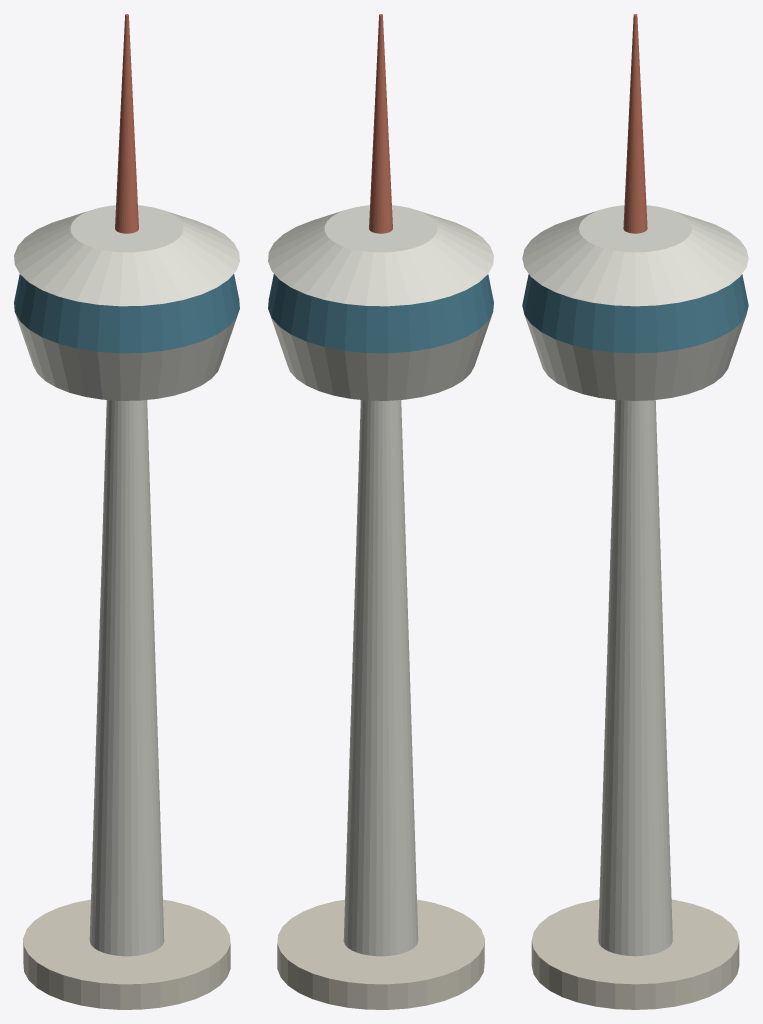
Rendered from namsan.glb.
3 views of the same model, side by side, from view 1: azimuth 30°, elevation 25°; view 2: azimuth 150°, elevation 25°; view 3: azimuth 270°, elevation 25° (orthographic).
Parts seen in each view (by area): view 1: tapered shaft, roof, base, panoramic windows, observation deck, antenna; view 2: tapered shaft, roof, base, panoramic windows, observation deck, antenna; view 3: tapered shaft, roof, base, panoramic windows, observation deck, antenna.
Part boxes in pixels (x1,y1,x2,y2): tapered shaft: (89, 400, 164, 956); roof: (14, 205, 239, 306); base: (23, 899, 230, 1009); panoramic windows: (14, 274, 239, 353); observation deck: (15, 313, 238, 400); antenna: (115, 14, 138, 233); tapered shaft: (343, 400, 418, 956); roof: (268, 205, 493, 306); base: (277, 899, 484, 1009); panoramic windows: (268, 274, 493, 353); observation deck: (269, 313, 492, 400); antenna: (369, 14, 392, 233); tapered shaft: (598, 400, 672, 956); roof: (522, 205, 748, 306); base: (531, 899, 739, 1009); panoramic windows: (522, 274, 748, 353); observation deck: (524, 315, 746, 400); antenna: (623, 14, 647, 233).
Size of the model in its own units: 48 by 222 by 48.
